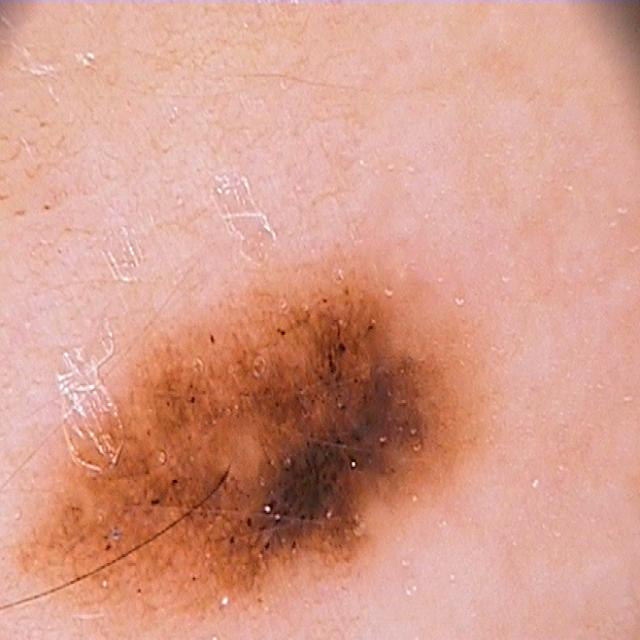Melanoma: (26, 253, 535, 603)
